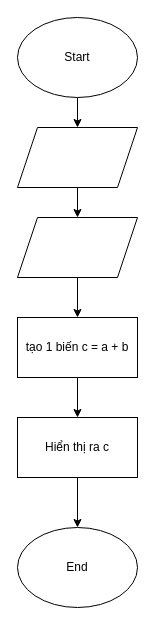
This 155x625 diagram has some shape labels left out. The centre of each missing label's shape, as x and y in pixels:
"Nhập vào số a" goes at (x=77, y=157).
"Nhập vào số b" goes at (x=77, y=247).
